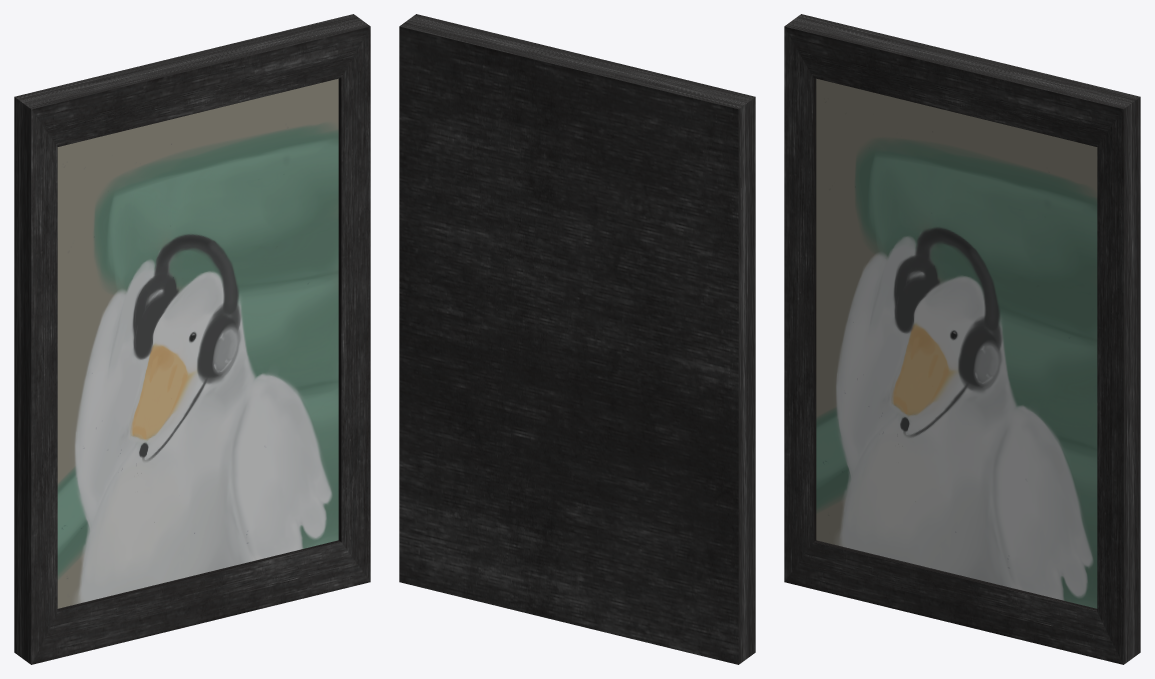
Rendered from painting_portrait_5.fbx.
3 views of the same model, side by side, from view 1: azimuth 30°, elevation 25°; view 2: azimuth 150°, elevation 25°; view 3: azimuth 330°, elevation 25° (orthographic).
Parts seen in each view (by area): view 1: painting_Var5; view 2: painting_Var5; view 3: painting_Var5.
Part boxes in pixels (<box>): painting_Var5: <box>14,14,370,664</box>; painting_Var5: <box>399,14,755,664</box>; painting_Var5: <box>784,14,1140,664</box>.
Bounding box in the file's own units: 59.07 × 92.39 × 5.15.
Materials: 1 (1 with a texture image).
